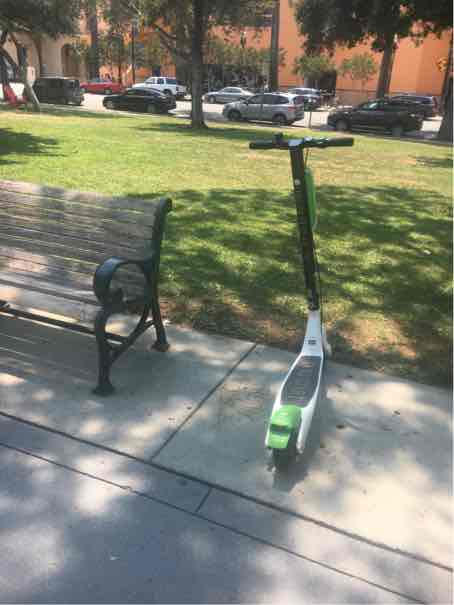scooter: (233, 134, 356, 480)
